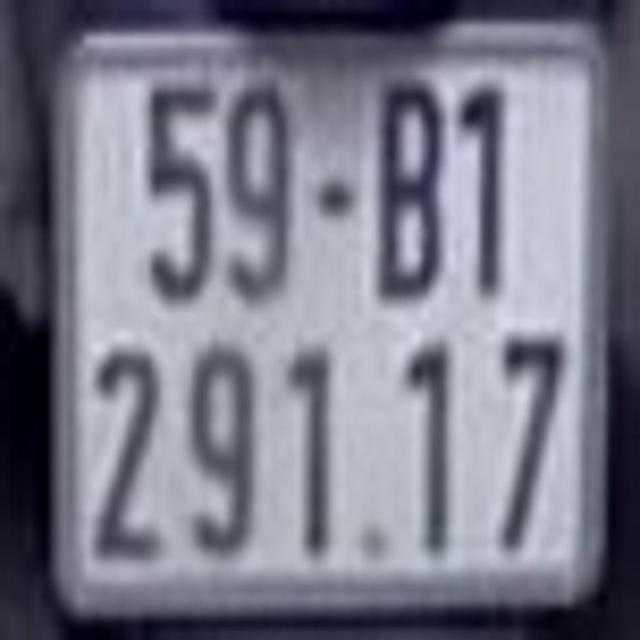1: (408, 345, 452, 553), (293, 352, 334, 550), (463, 89, 501, 289)
2: (90, 353, 158, 560)
5: (150, 82, 214, 296)
7: (498, 336, 568, 548)
9: (230, 87, 288, 300), (196, 348, 251, 548)
B: (380, 82, 440, 296)
